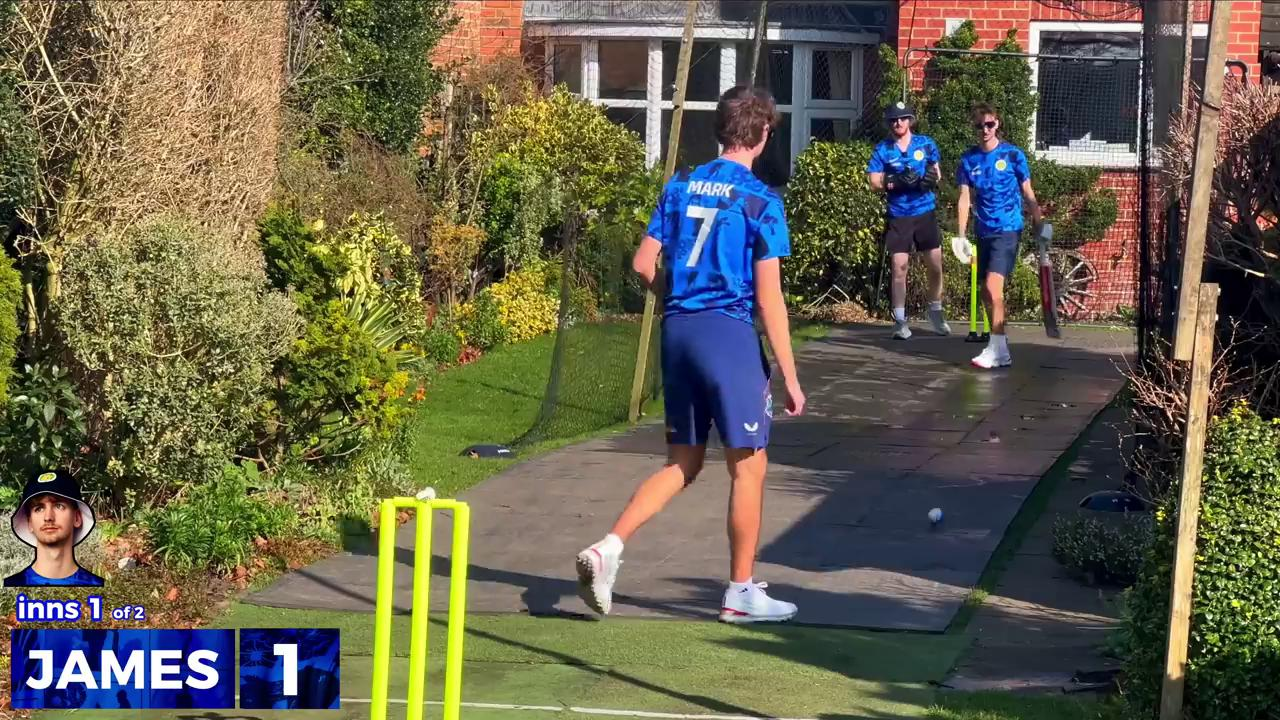ball: (909, 496, 959, 536)
